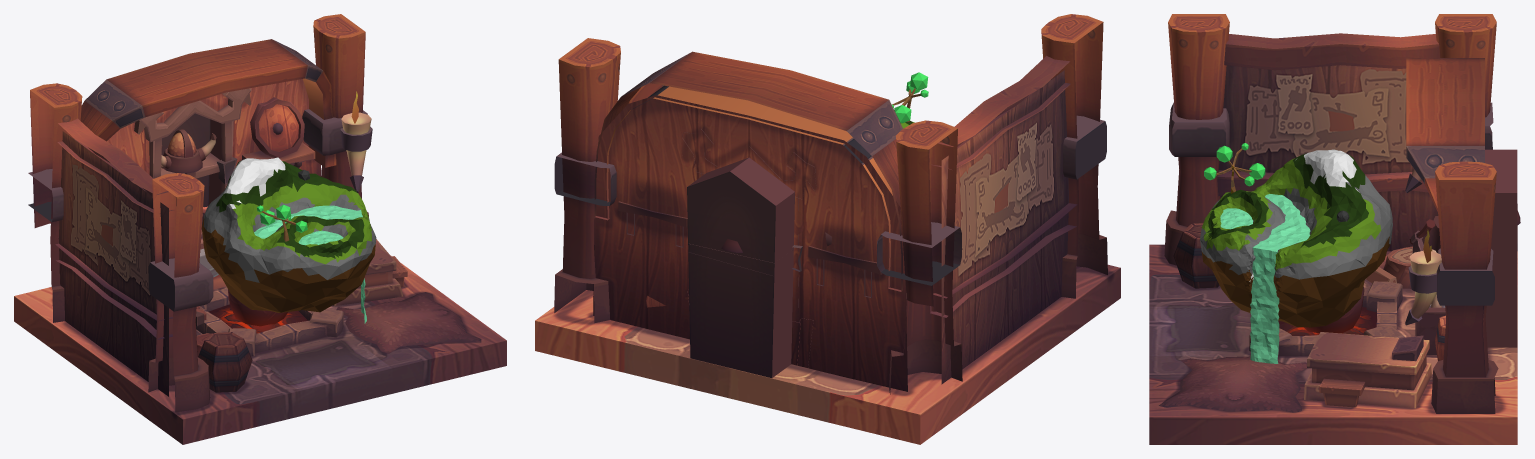
The model's file is Kombi.gltf.
3 renders of one model, left to right at view 1: azimuth 30°, elevation 25°; view 2: azimuth 150°, elevation 25°; view 3: azimuth 270°, elevation 25°, orthographic. The views are drawn at different scales.
Visible parts, largest first — view 1: mesh_all1, Welt, Wasser; view 2: mesh_all1; view 3: mesh_all1, Welt, Wasser.
Part boxes in pixels (x1,y1,x2,y2): mesh_all1: (14,14,506,444); Welt: (201,157,376,312); Wasser: (254,205,366,323); mesh_all1: (535,14,1120,444); mesh_all1: (1149,14,1520,444); Welt: (1200,149,1392,327); Wasser: (1220,194,1310,363).
Size of the model in its own units: 82.61 by 58.4 by 75.07.
13 materials, 1 textured.
